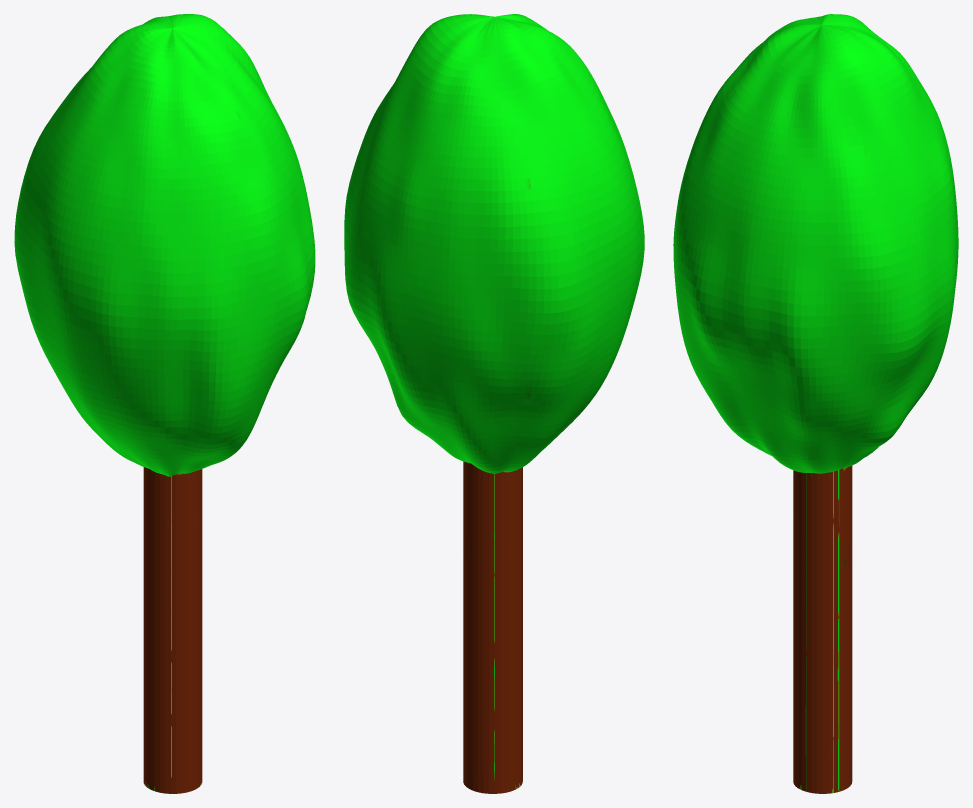
The model's file is Tree.fbx.
The picture shows the model from 3 angles, left to right: view 1: azimuth 30°, elevation 25°; view 2: azimuth 150°, elevation 25°; view 3: azimuth 270°, elevation 25°; orthographic projection.
Parts seen in each view (by area): view 1: Cylinder; view 2: Cylinder; view 3: Cylinder.
Part boxes in pixels (bbox=[...]): Cylinder: bbox=[14, 14, 315, 793]; Cylinder: bbox=[344, 14, 644, 793]; Cylinder: bbox=[673, 14, 958, 793].
Size of the model in its own units: 2.83 by 8.07 by 2.75.
